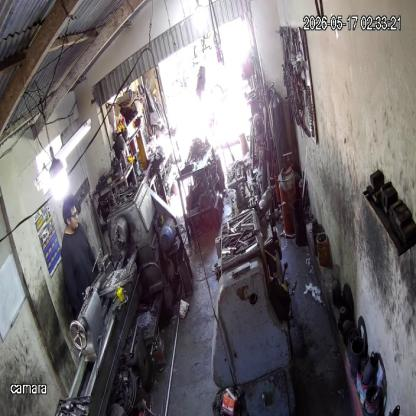lentes: (68, 208, 81, 222)
